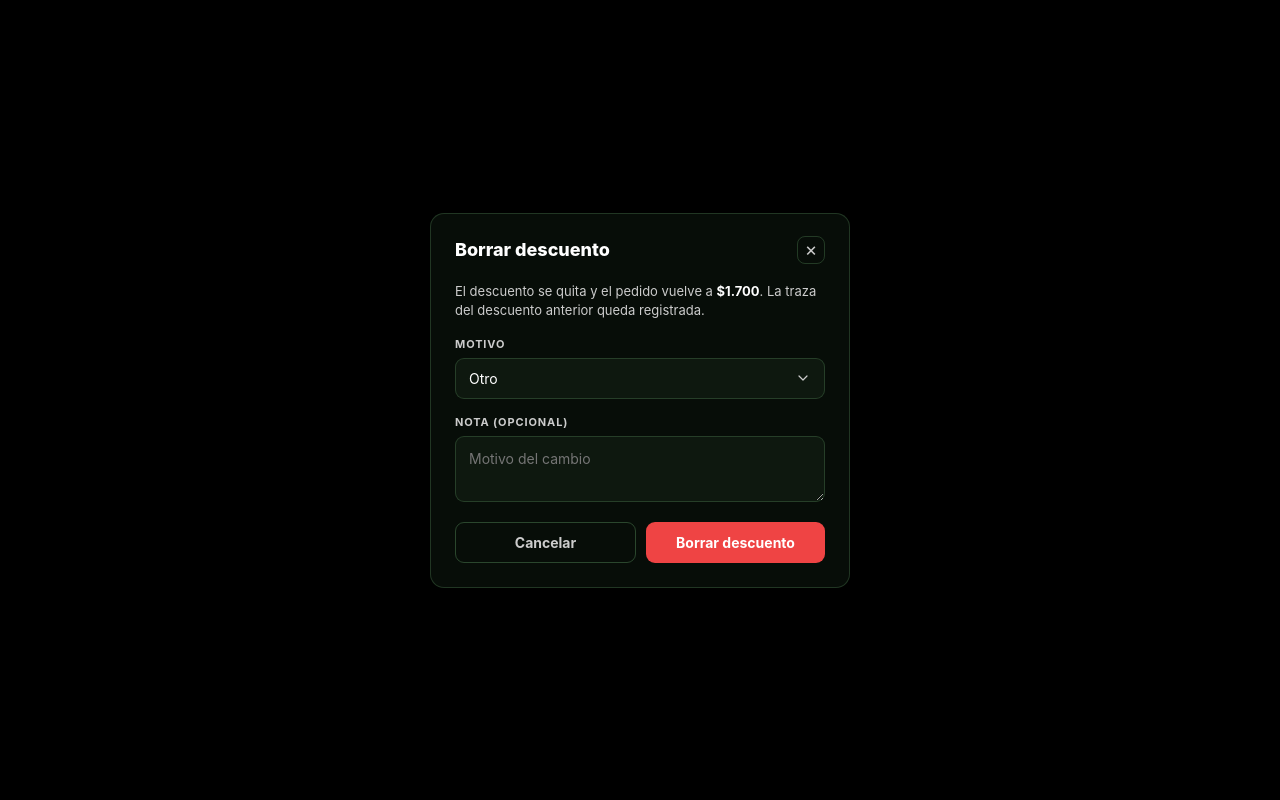
Test: RevertDiscountModal (US-19-06) › un error del backend se muestra inline y no cierra el modal
Click the button "Borrar descuento": (736,542) [646,522,825,562]
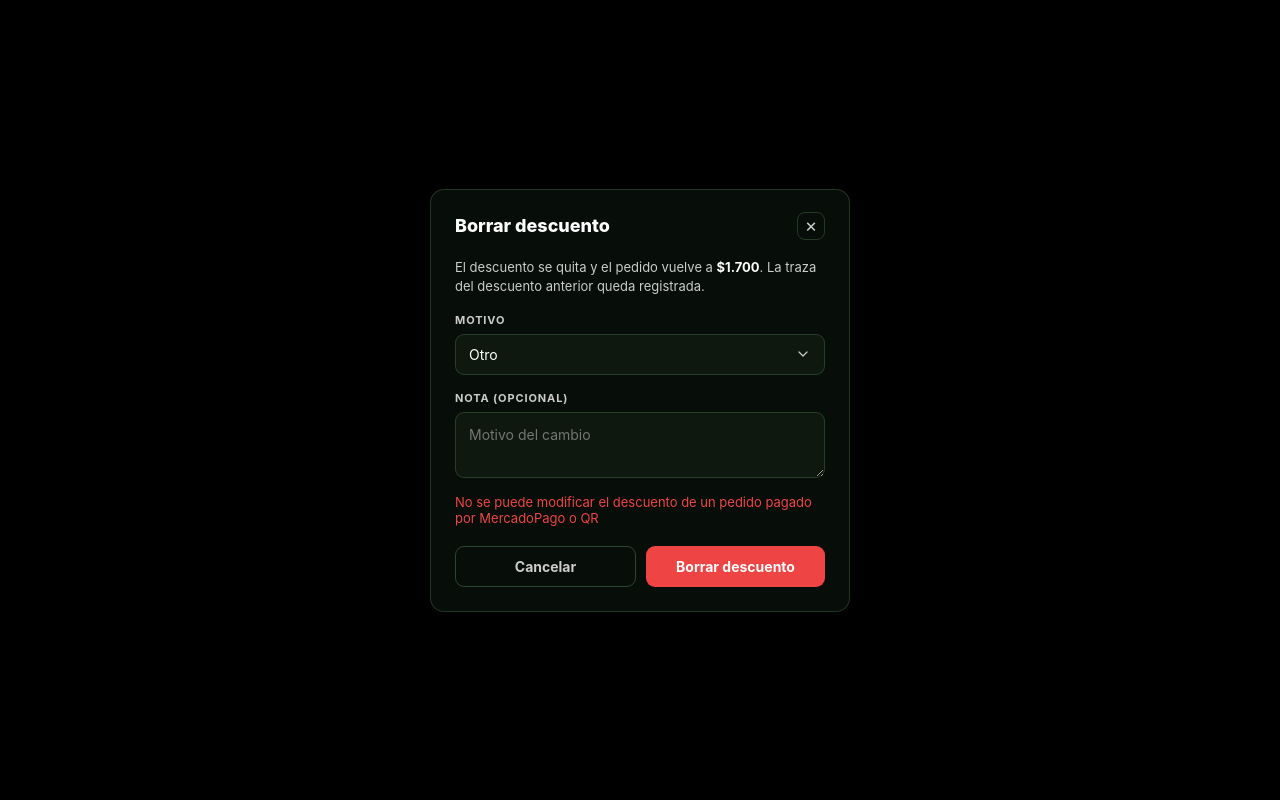
Now the message shows "MercadoPago o QR", box [455,494,812,526]
